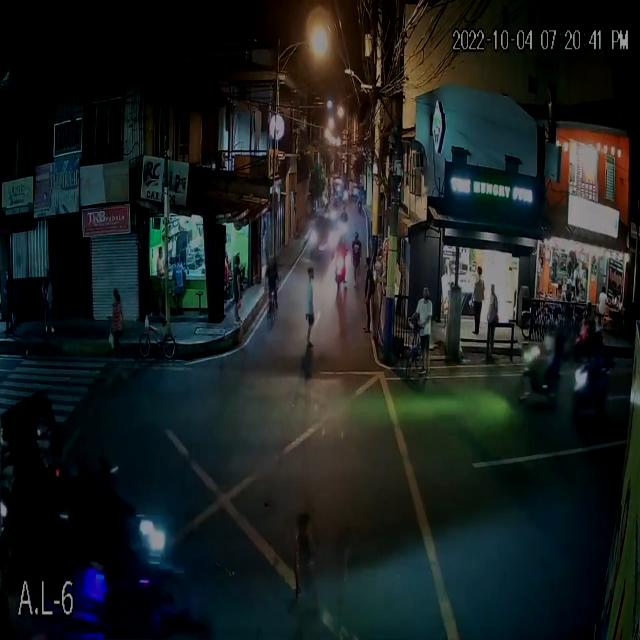Full-Faced: (595, 333, 607, 353)
